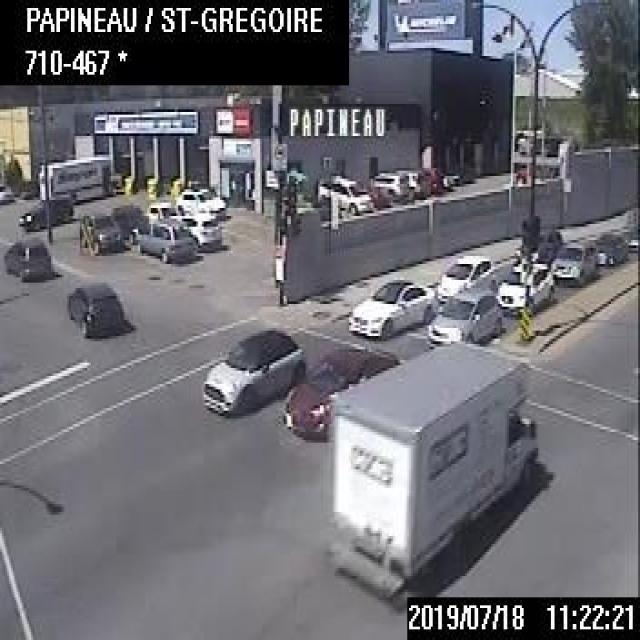vehicle: (327, 336, 536, 600), (280, 338, 400, 445), (199, 321, 306, 416), (346, 275, 436, 335), (426, 284, 503, 345), (60, 274, 125, 338), (37, 152, 120, 200), (494, 258, 553, 314), (134, 216, 198, 264), (316, 169, 374, 214), (0, 232, 51, 280), (436, 252, 496, 291), (550, 236, 596, 284), (77, 208, 123, 254), (17, 192, 70, 231), (176, 210, 222, 251), (176, 182, 224, 216), (589, 228, 626, 266), (370, 166, 407, 198), (142, 197, 180, 226), (0, 181, 13, 203)
